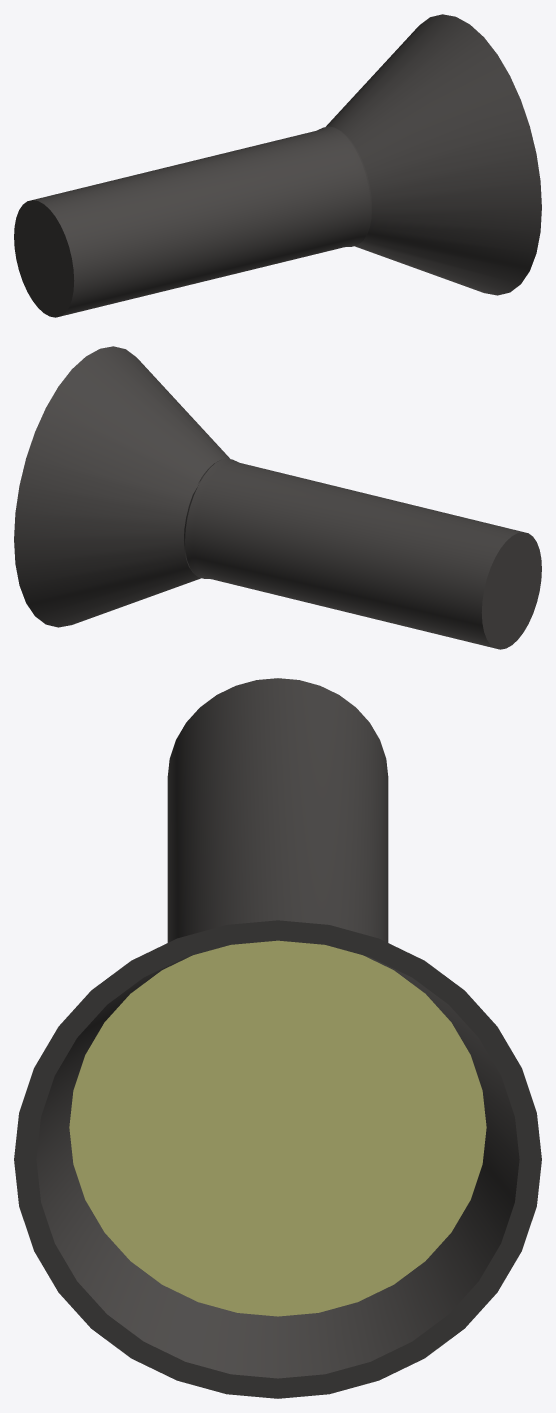
File: Flashlight.fbx
3 renders of one model, top to bottom at view 1: azimuth 30°, elevation 25°; view 2: azimuth 150°, elevation 25°; view 3: azimuth 270°, elevation 25°, orthographic. The views are drawn at different scales.
Visible parts, largest first — view 1: Cylinder; view 2: Cylinder; view 3: Cylinder, Cylinder.001.
Part boxes in pixels (x1=…): Cylinder: x1=14, y1=14, x2=541, y2=317; Cylinder: x1=14, y1=346, x2=541, y2=649; Cylinder: x1=14, y1=678, x2=541, y2=1398; Cylinder.001: x1=69, y1=940, x2=486, y2=1316.
Size of the model in its own units: 98.24 by 57.48 by 57.48.
